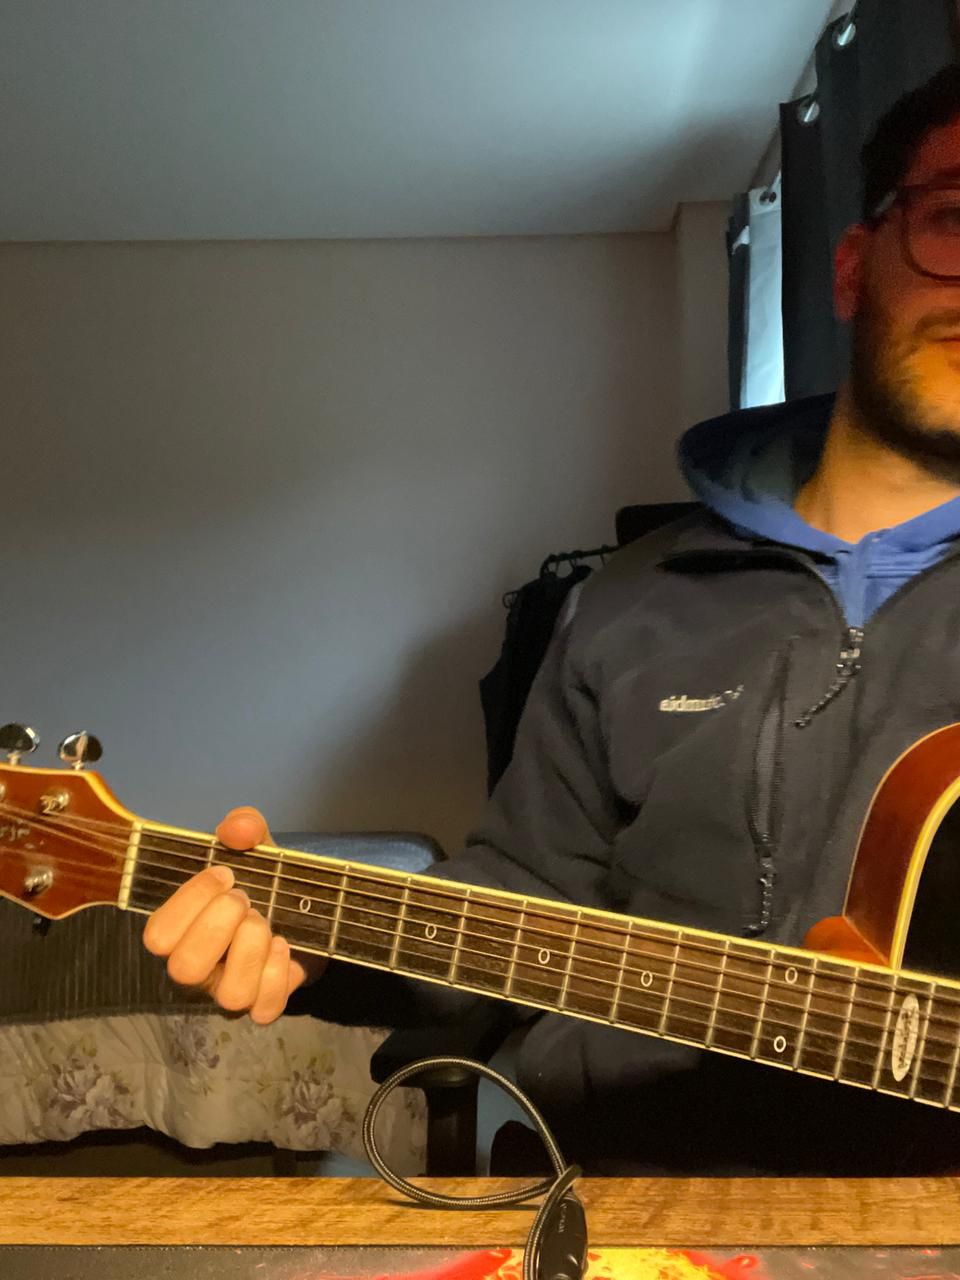la: (190, 829, 297, 956)
violao: (110, 804, 960, 1124)
